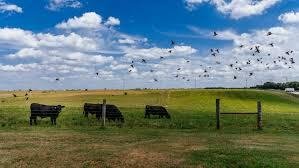cow: (29, 102, 66, 125), (94, 103, 125, 124), (144, 104, 171, 120), (82, 102, 103, 119)
